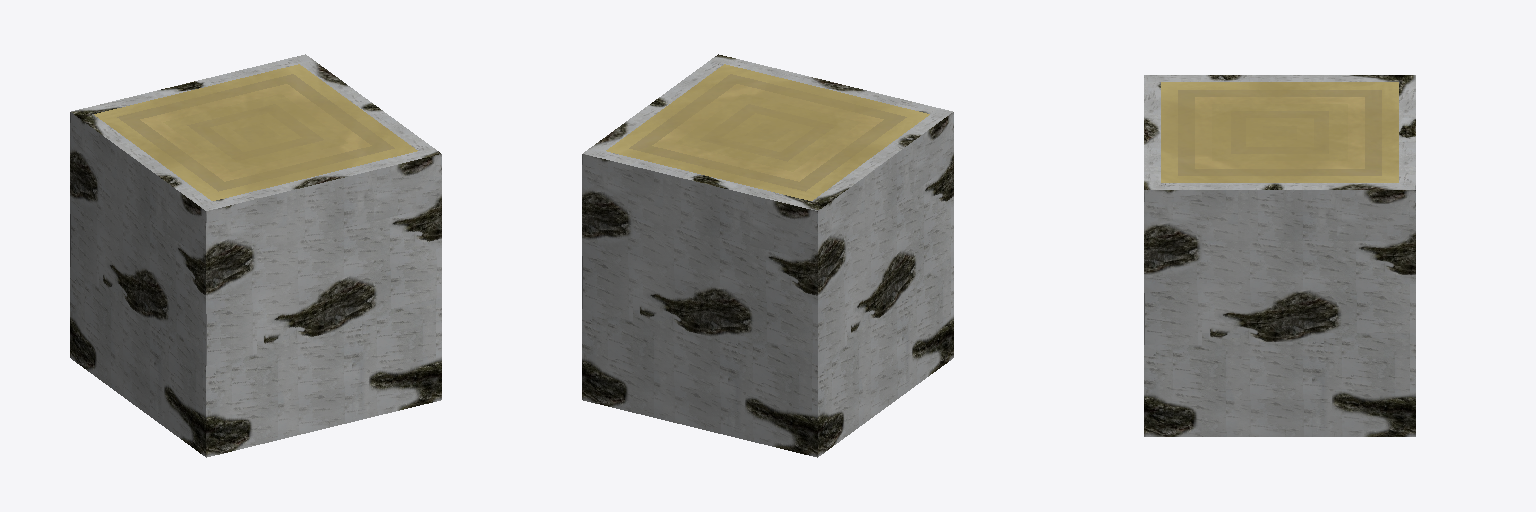
3 views of the same model, side by side, from view 1: azimuth 30°, elevation 25°; view 2: azimuth 150°, elevation 25°; view 3: azimuth 270°, elevation 25° (orthographic).
Visible parts, largest first — view 1: wood2; view 2: wood2; view 3: wood2.
Part boxes in pixels (bbox=[...]): wood2: bbox=[70, 54, 441, 457]; wood2: bbox=[582, 54, 953, 457]; wood2: bbox=[1144, 75, 1415, 436].
Size of the model in its own units: 1 by 1 by 1.
Materials: 1 (1 with a texture image).